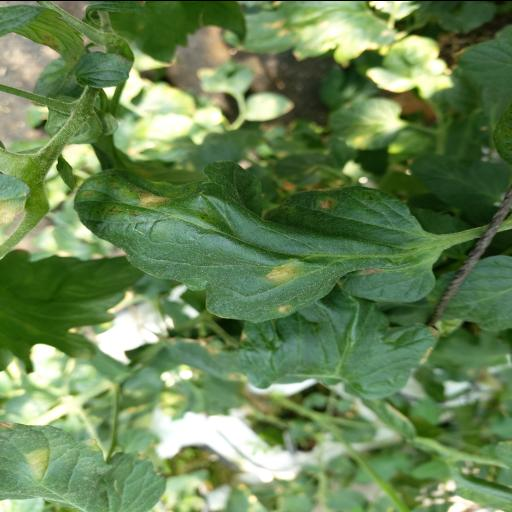disease_tomato: (74, 160, 436, 323)
